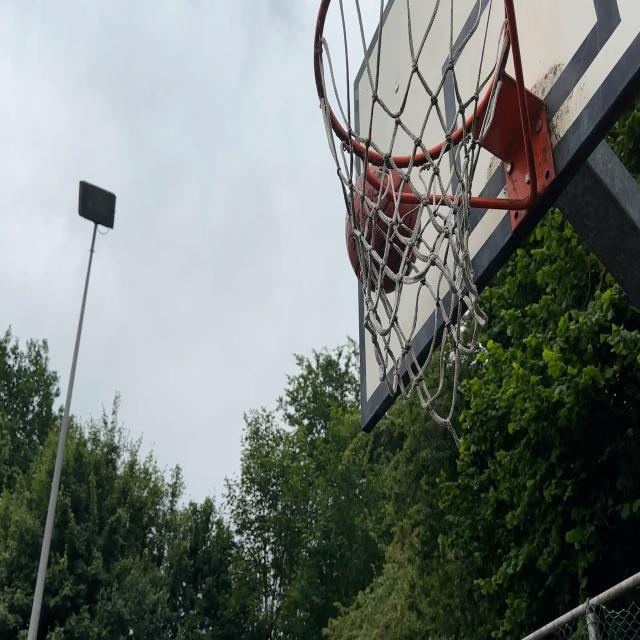Basketball: (344, 162, 420, 298)
